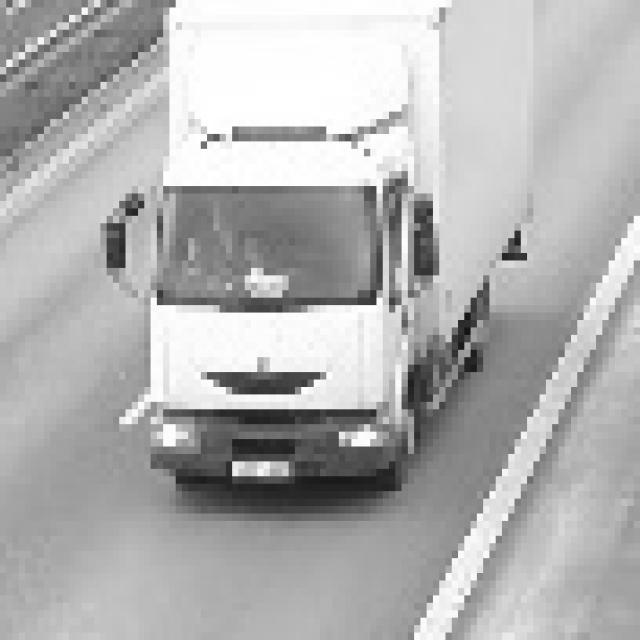truck: (101, 117, 461, 507)
